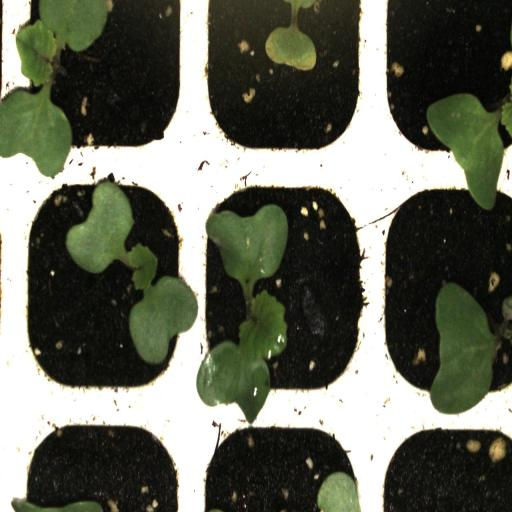Folha: (426, 93, 512, 210), (431, 283, 497, 415), (316, 471, 361, 512), (272, 25, 317, 66)
Germinacao: (190, 164, 372, 410), (13, 161, 190, 408), (188, 0, 372, 158), (14, 0, 190, 162)
